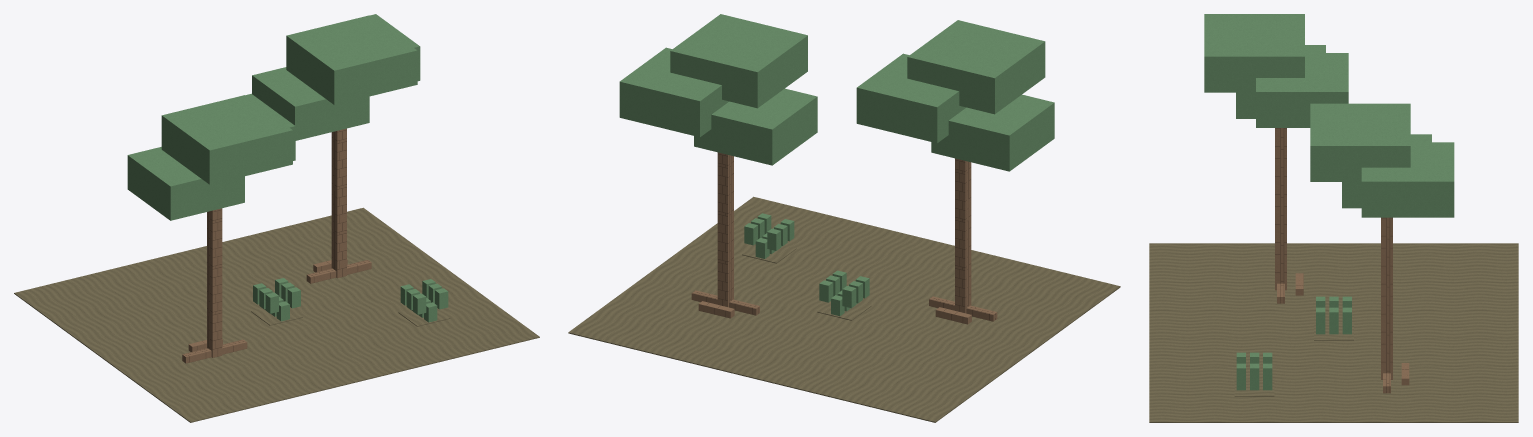
File: plot-humid.glb
3 views of the same model, side by side, from view 1: azimuth 30°, elevation 25°; view 2: azimuth 150°, elevation 25°; view 3: azimuth 270°, elevation 25° (orthographic). The views are drawn at different scales.
Size of the model in its own units: 15.96 by 10.57 by 13.96.
Materials: 3 (3 with a texture image).
